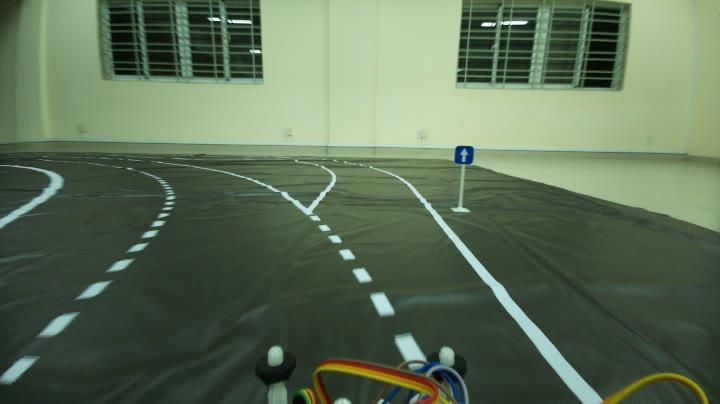onewayroad: (452, 142, 479, 172)
